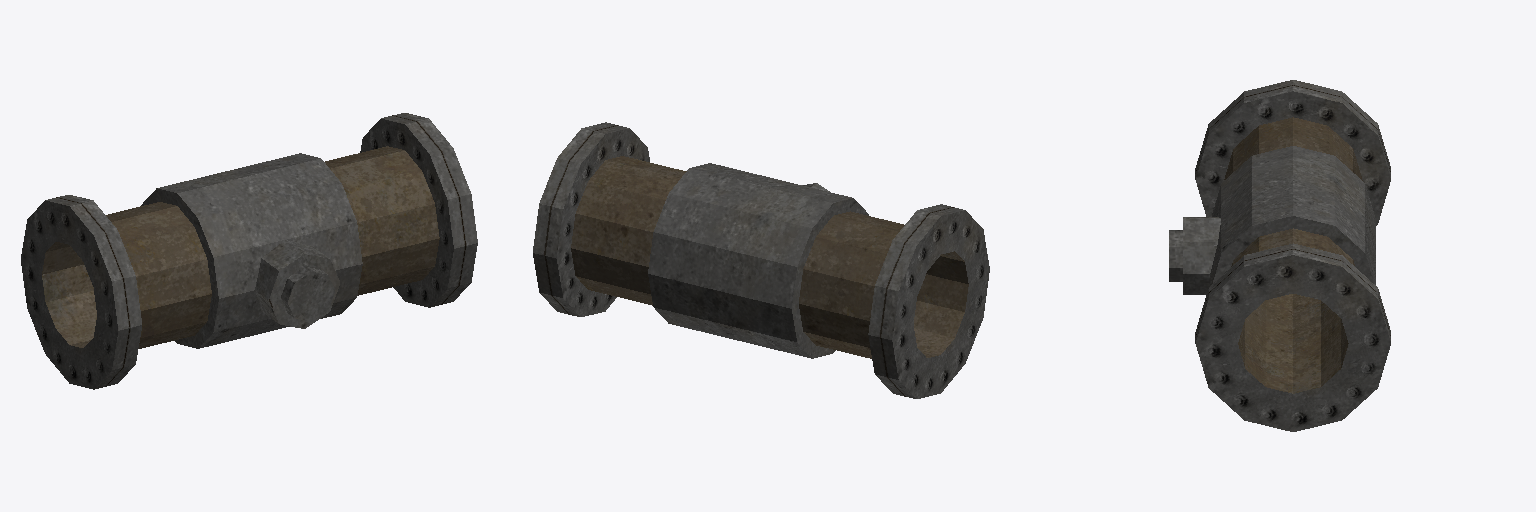
3 renders of one model, left to right at view 1: azimuth 30°, elevation 25°; view 2: azimuth 150°, elevation 25°; view 3: azimuth 270°, elevation 25°, orthographic.
Parts seen in each view (by area): view 1: valvepart_open; view 2: valvepart_open; view 3: valvepart_open.
Boxes of the visible parts, box(x1,y1,x2,y2) form: valvepart_open: box(21, 113, 477, 389); valvepart_open: box(533, 122, 989, 398); valvepart_open: box(1169, 80, 1390, 431).
Bounding box in the file's own units: 1.5 × 0.7071 × 0.8035.
Materials: 1 (1 with a texture image).